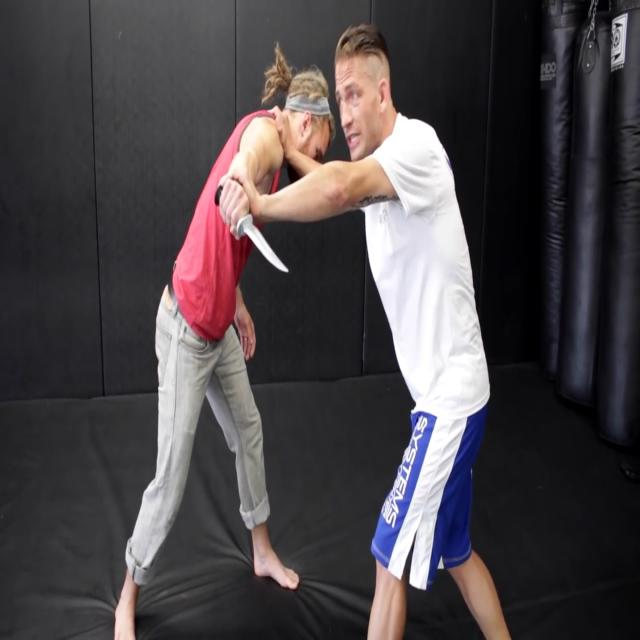knife: (212, 185, 292, 276)
